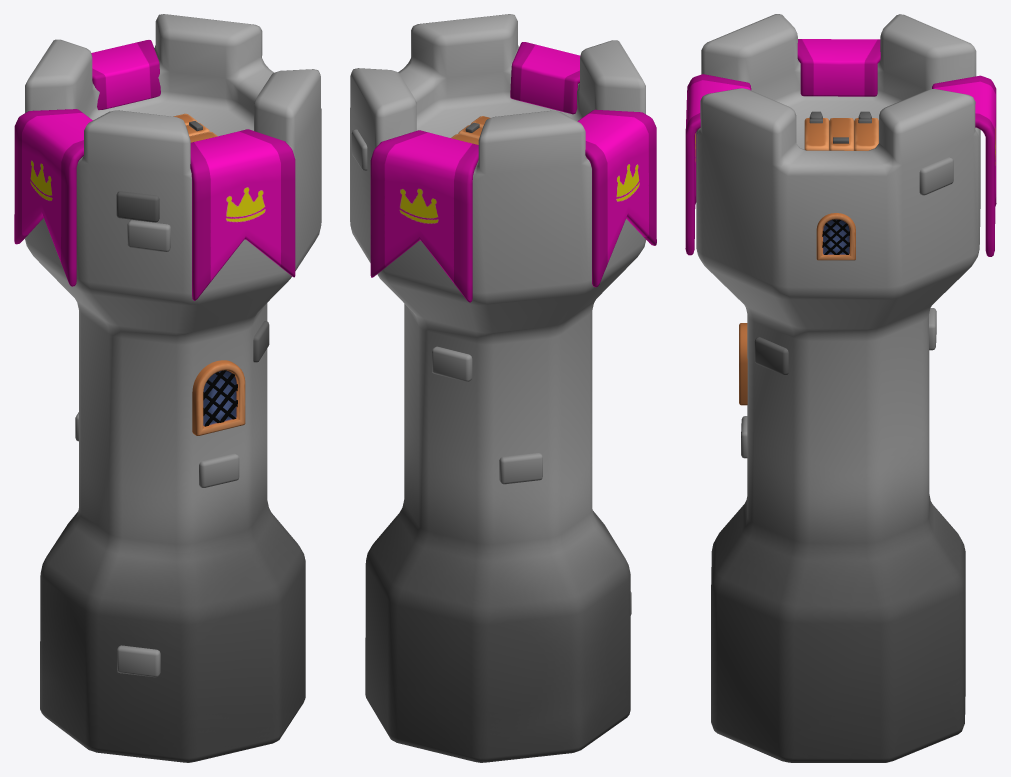
File: tower.fbx
3 renders of one model, left to right at view 1: azimuth 30°, elevation 25°; view 2: azimuth 150°, elevation 25°; view 3: azimuth 270°, elevation 25°, orthographic.
Visible parts, largest first — view 1: tower; view 2: tower; view 3: tower.
Boxes of the visible parts, left/top/right/bottom form: tower: left=14, top=14, right=321, bottom=762; tower: left=350, top=14, right=656, bottom=762; tower: left=685, top=14, right=996, bottom=762.
Size of the model in its own units: 654 by 1554 by 679.
3 materials, 1 textured.
